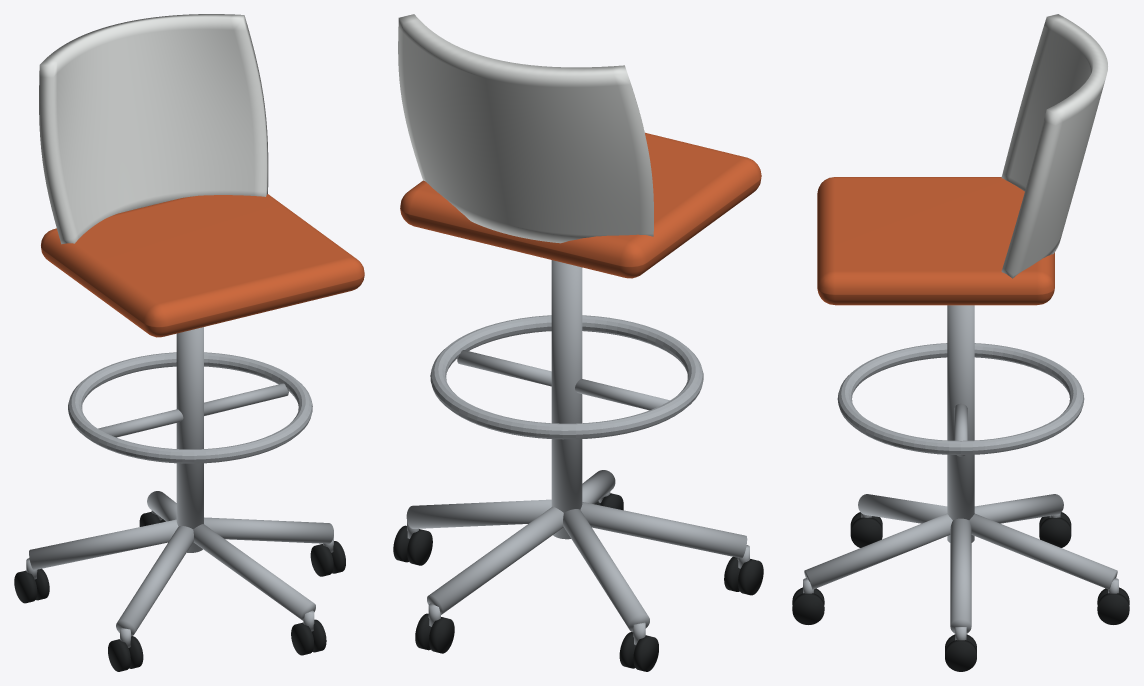
File: 33_吧椅_打印茶水区_橙红色.glb
The picture shows the model from 3 angles, left to right: view 1: azimuth 30°, elevation 25°; view 2: azimuth 150°, elevation 25°; view 3: azimuth 270°, elevation 25°; orthographic projection. The views are drawn at different scales.
Visible parts, largest first — view 1: 白色靠背, 弧面软座垫, 环形脚踏, 气压立柱, 星形底脚.002, 星形底脚.004, 星形底脚, 星形底脚.003, 脚踏支撑, 脚踏支撑.001, 星形底脚.001, 脚轮.004 (+3 smaller); view 2: 白色靠背, 弧面软座垫, 环形脚踏, 气压立柱, 星形底脚.003, 星形底脚.001, 星形底脚, 星形底脚.002, 脚踏支撑, 脚踏支撑.001, 星形底脚.004, 脚轮 (+3 smaller); view 3: 弧面软座垫, 白色靠背, 环形脚踏, 气压立柱, 星形底脚.001, 星形底脚.004, 星形底脚, 星形底脚.002, 星形底脚.003, 脚轮.003, 脚轮.009, 脚轮.001 (+3 smaller).
Part boxes in pixels (x1=…): 白色靠背: x1=39, y1=14, x2=268, y2=244; 弧面软座垫: x1=41, y1=194, x2=364, y2=337; 环形脚踏: x1=68, y1=352, x2=312, y2=463; 气压立柱: x1=176, y1=327, x2=203, y2=552; 星形底脚.002: x1=29, y1=519, x2=178, y2=570; 星形底脚.004: x1=193, y1=524, x2=315, y2=620; 星形底脚: x1=204, y1=517, x2=333, y2=543; 星形底脚.003: x1=116, y1=526, x2=193, y2=636; 脚踏支撑: x1=204, y1=383, x2=288, y2=415; 脚踏支撑.001: x1=98, y1=409, x2=183, y2=437; 星形底脚.001: x1=147, y1=491, x2=176, y2=521; 脚轮.004: x1=14, y1=570, x2=37, y2=603; 白色靠背: x1=398, y1=14, x2=653, y2=243; 弧面软座垫: x1=400, y1=132, x2=761, y2=278; 环形脚踏: x1=430, y1=315, x2=703, y2=439; 气压立柱: x1=551, y1=260, x2=582, y2=539; 星形底脚.003: x1=580, y1=502, x2=747, y2=558; 星形底脚.001: x1=427, y1=506, x2=563, y2=614; 星形底脚: x1=406, y1=499, x2=551, y2=528; 星形底脚.002: x1=563, y1=509, x2=649, y2=632; 脚踏支撑: x1=457, y1=350, x2=551, y2=386; 脚踏支撑.001: x1=575, y1=378, x2=669, y2=410; 星形底脚.004: x1=582, y1=470, x2=615, y2=503; 脚轮: x1=407, y1=529, x2=432, y2=565; 弧面软座垫: x1=817, y1=177, x2=1054, y2=305; 白色靠背: x1=1001, y1=14, x2=1107, y2=278; 环形脚踏: x1=837, y1=343, x2=1084, y2=455; 气压立柱: x1=947, y1=305, x2=974, y2=542; 星形底脚.001: x1=969, y1=513, x2=1117, y2=589; 星形底脚.004: x1=804, y1=513, x2=952, y2=589; 星形底脚: x1=950, y1=518, x2=971, y2=633; 星形底脚.002: x1=974, y1=494, x2=1063, y2=523; 星形底脚.003: x1=858, y1=494, x2=947, y2=523; 脚轮.003: x1=1097, y1=593, x2=1129, y2=624; 脚轮.009: x1=792, y1=593, x2=824, y2=624; 脚轮.001: x1=945, y1=640, x2=976, y2=671.
Size of the model in its own units: 0.5656 by 1.07 by 0.6096.
